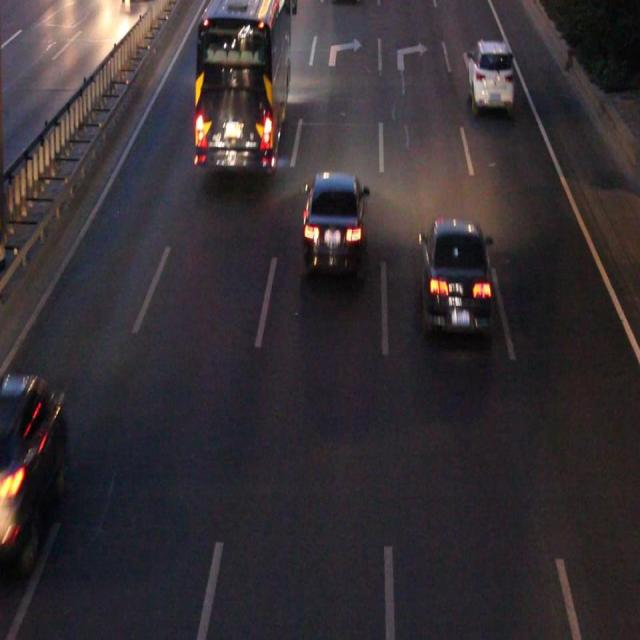car: (1, 370, 62, 540), (421, 218, 488, 337), (304, 171, 362, 273), (466, 45, 511, 107)
van: (197, 1, 290, 165)
